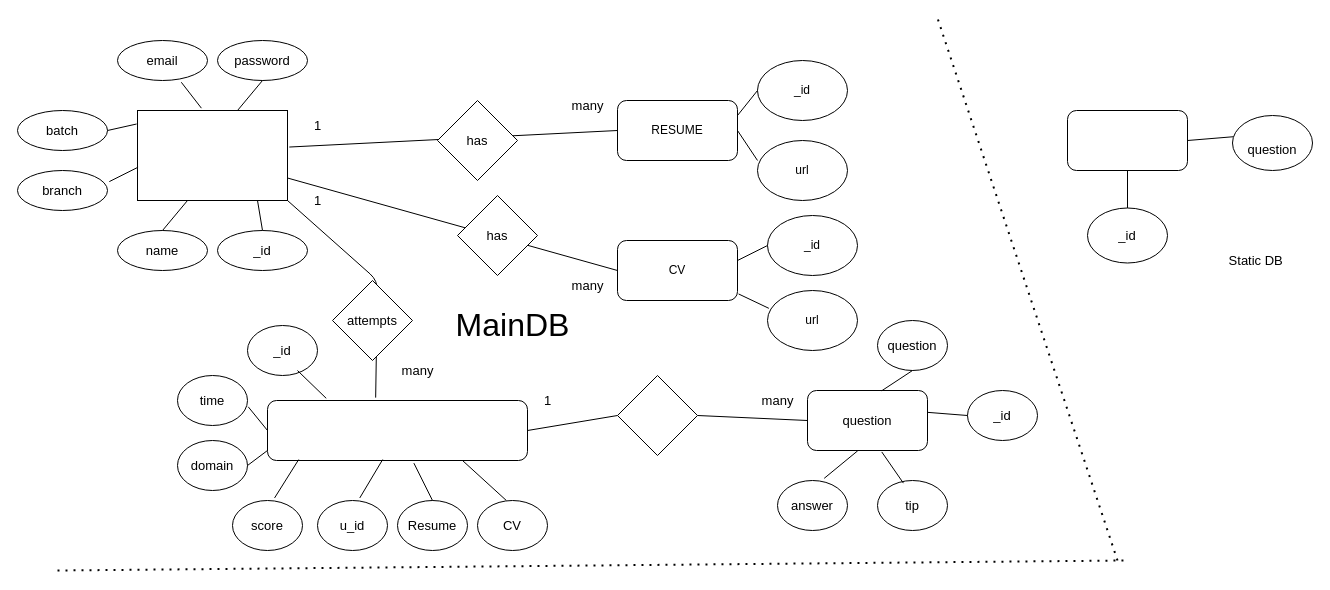
This 1330x590 diagram has some shape labels left out. Each missing label, with the box of its shape:
INTERVIEW: (266, 400, 528, 460)
static Questions: (1066, 110, 1188, 170)
STUDENT: (136, 110, 288, 200)
were asked: (616, 374, 698, 456)
